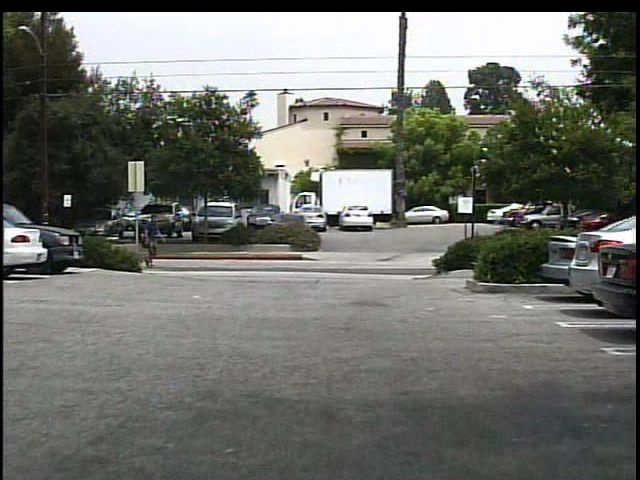person: (142, 211, 168, 270)
